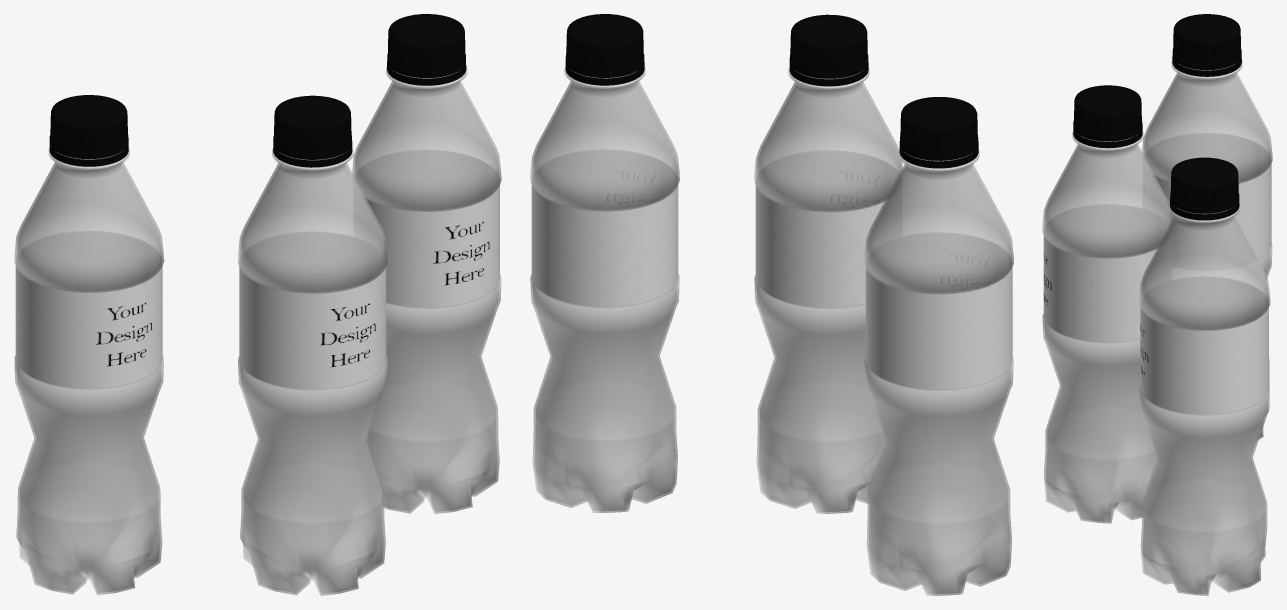
File: Soft Drinks A-4.glb
3 renders of one model, left to right at view 1: azimuth 30°, elevation 25°; view 2: azimuth 150°, elevation 25°; view 3: azimuth 270°, elevation 25°, orthographic. The views are drawn at different scales.
Parts seen in each view (by area): view 1: Bottle_Bottle.001_Cylinder.008, Bottle_Bottle.001_Cylinder.001, Bottle_Bottle.001_Cylinder.002, Label_Bottle.001_Cylinder.001, Label_Bottle.001_Cylinder.007, Label_Bottle.001_Cylinder.002, Plastic_Neck_Bottle.001_Cylinder.006, Plastic_Neck_Bottle.001_Cylinder.001, Plastic_Neck_Bottle.001_Cylinder.002; view 2: Bottle_Bottle.001_Cylinder.008, Bottle_Bottle.001_Cylinder.002, Bottle_Bottle.001_Cylinder.001, Label_Bottle.001_Cylinder.002, Label_Bottle.001_Cylinder.007, Label_Bottle.001_Cylinder.001, Plastic_Neck_Bottle.001_Cylinder.002, Plastic_Neck_Bottle.001_Cylinder.001, Plastic_Neck_Bottle.001_Cylinder.006; view 3: Bottle_Bottle.001_Cylinder.002, Bottle_Bottle.001_Cylinder.001, Label_Bottle.001_Cylinder.002, Bottle_Bottle.001_Cylinder.008, Label_Bottle.001_Cylinder.001, Plastic_Neck_Bottle.001_Cylinder.002, Plastic_Neck_Bottle.001_Cylinder.001, Plastic_Neck_Bottle.001_Cylinder.006, Label_Bottle.001_Cylinder.007.
Boxes of the visible parts, x1=… form: Bottle_Bottle.001_Cylinder.008: x1=14, y1=148, x2=164, y2=594; Bottle_Bottle.001_Cylinder.001: x1=237, y1=149, x2=387, y2=595; Bottle_Bottle.001_Cylinder.002: x1=352, y1=67, x2=501, y2=513; Label_Bottle.001_Cylinder.001: x1=239, y1=260, x2=386, y2=389; Label_Bottle.001_Cylinder.007: x1=15, y1=259, x2=162, y2=388; Label_Bottle.001_Cylinder.002: x1=362, y1=178, x2=499, y2=307; Plastic_Neck_Bottle.001_Cylinder.006: x1=49, y1=95, x2=128, y2=166; Plastic_Neck_Bottle.001_Cylinder.001: x1=273, y1=95, x2=352, y2=167; Plastic_Neck_Bottle.001_Cylinder.002: x1=387, y1=14, x2=466, y2=85; Bottle_Bottle.001_Cylinder.008: x1=864, y1=150, x2=1013, y2=595; Bottle_Bottle.001_Cylinder.002: x1=530, y1=67, x2=679, y2=512; Bottle_Bottle.001_Cylinder.001: x1=754, y1=68, x2=902, y2=513; Label_Bottle.001_Cylinder.002: x1=531, y1=177, x2=678, y2=306; Label_Bottle.001_Cylinder.007: x1=865, y1=260, x2=1012, y2=389; Label_Bottle.001_Cylinder.001: x1=755, y1=178, x2=887, y2=307; Plastic_Neck_Bottle.001_Cylinder.002: x1=565, y1=14, x2=644, y2=85; Plastic_Neck_Bottle.001_Cylinder.001: x1=789, y1=14, x2=868, y2=86; Plastic_Neck_Bottle.001_Cylinder.006: x1=899, y1=97, x2=978, y2=168; Bottle_Bottle.001_Cylinder.002: x1=1139, y1=204, x2=1270, y2=595; Bottle_Bottle.001_Cylinder.001: x1=1042, y1=132, x2=1172, y2=523; Label_Bottle.001_Cylinder.002: x1=1140, y1=301, x2=1268, y2=414; Bottle_Bottle.001_Cylinder.008: x1=1142, y1=61, x2=1272, y2=440; Label_Bottle.001_Cylinder.001: x1=1043, y1=230, x2=1159, y2=342; Plastic_Neck_Bottle.001_Cylinder.002: x1=1170, y1=157, x2=1239, y2=220; Plastic_Neck_Bottle.001_Cylinder.001: x1=1073, y1=85, x2=1142, y2=148; Plastic_Neck_Bottle.001_Cylinder.006: x1=1172, y1=14, x2=1241, y2=76; Label_Bottle.001_Cylinder.007: x1=1152, y1=160, x2=1271, y2=260.
Bounding box in the file's own units: 2.41 × 2.29 × 1.18.
Materials: 3 (1 with a texture image).
